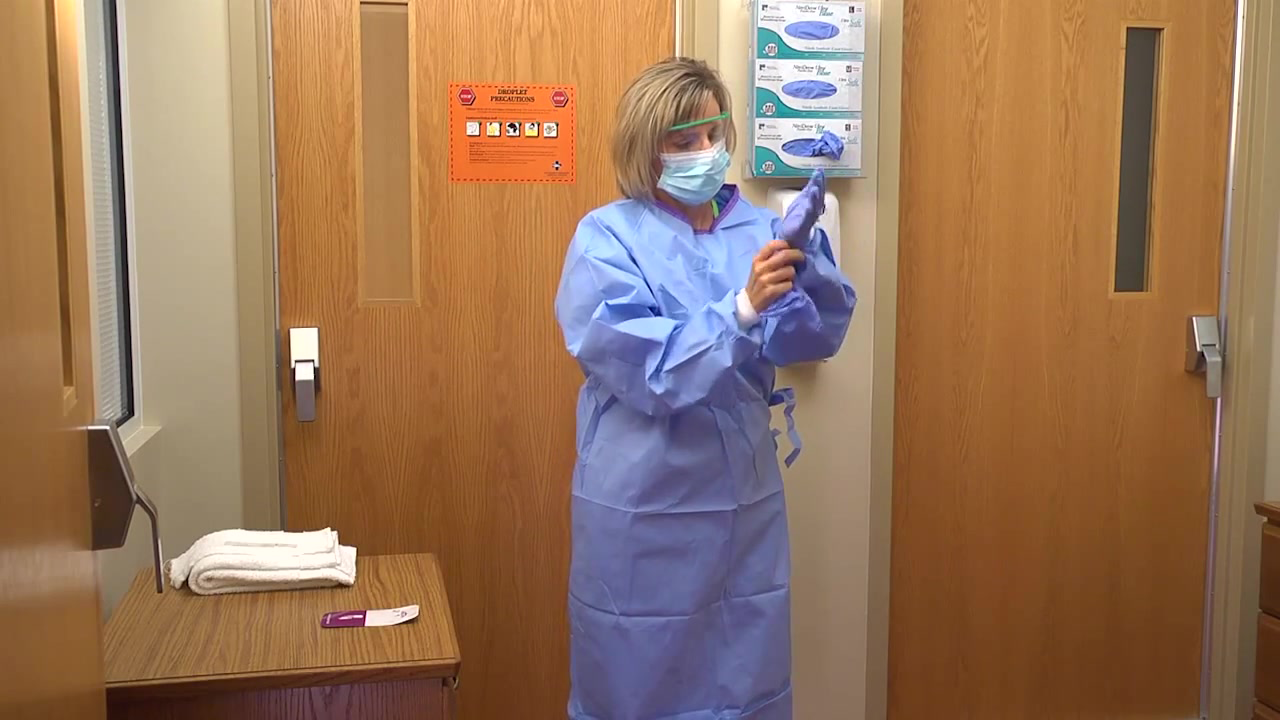Coverall: (546, 194, 836, 720)
Face_Shield: (650, 111, 741, 211)
Gloves: (783, 160, 829, 244)
with_mask: (652, 143, 737, 204)
